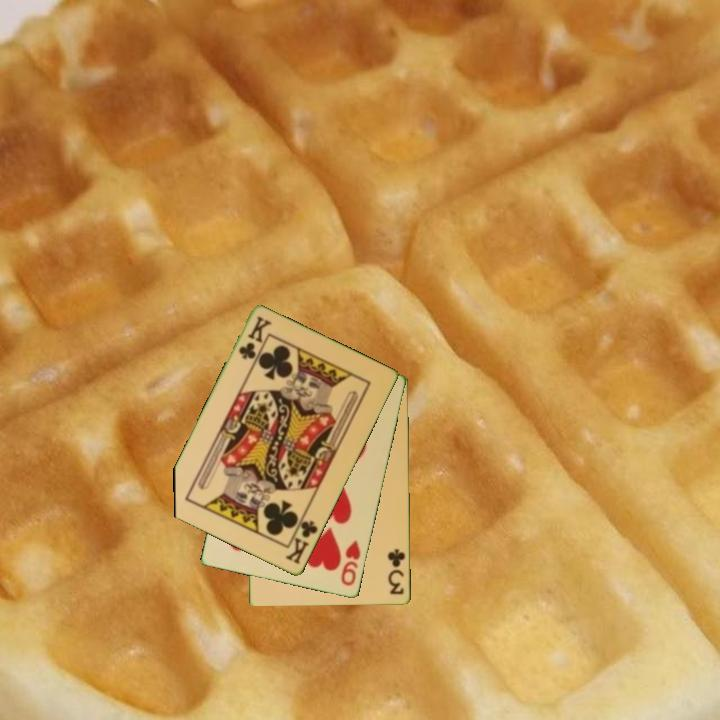3c: (385, 546, 408, 597)
9h: (338, 537, 364, 589)
Kc: (282, 512, 321, 567), (235, 313, 274, 363)
